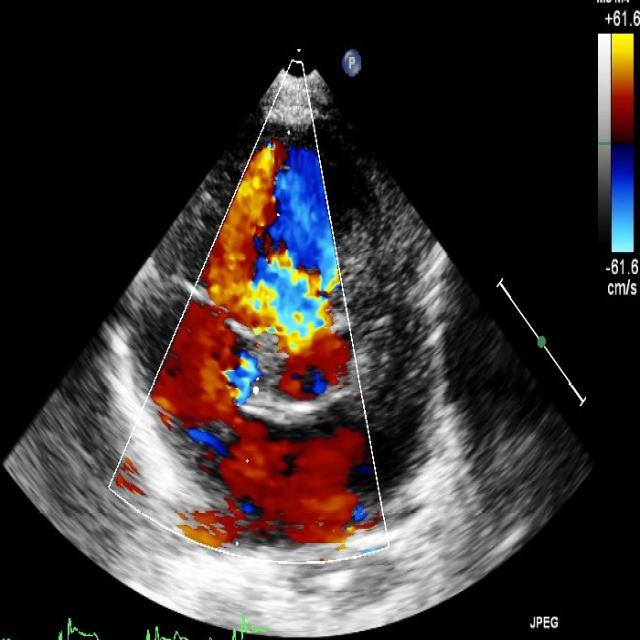VSDType2: (234, 251, 351, 391)
